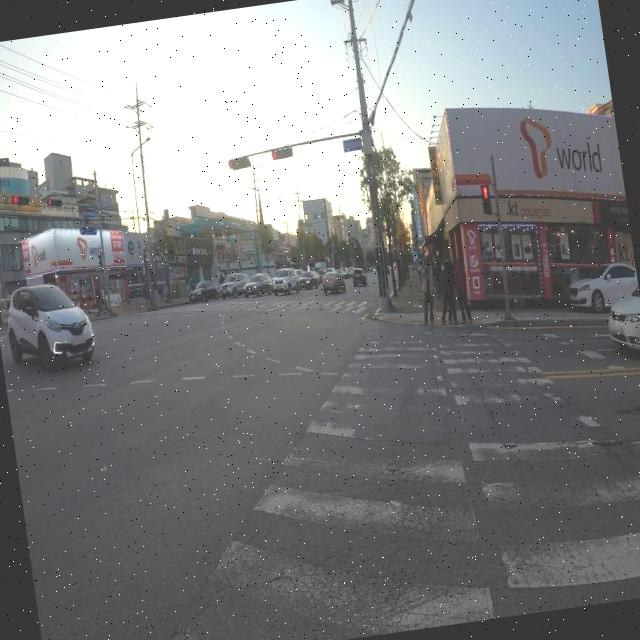crosswalk: (168, 324, 640, 640), (143, 300, 377, 315)
